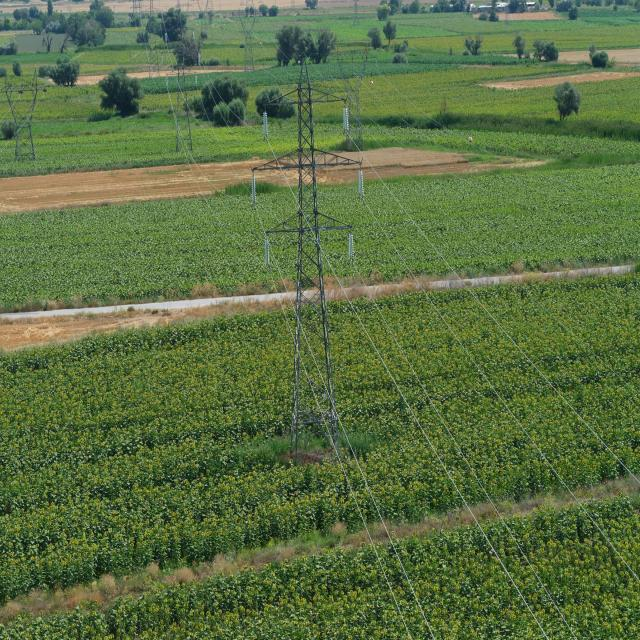voltage_line: (271, 84, 344, 450), (332, 54, 370, 152), (5, 78, 42, 166), (169, 56, 194, 156)
